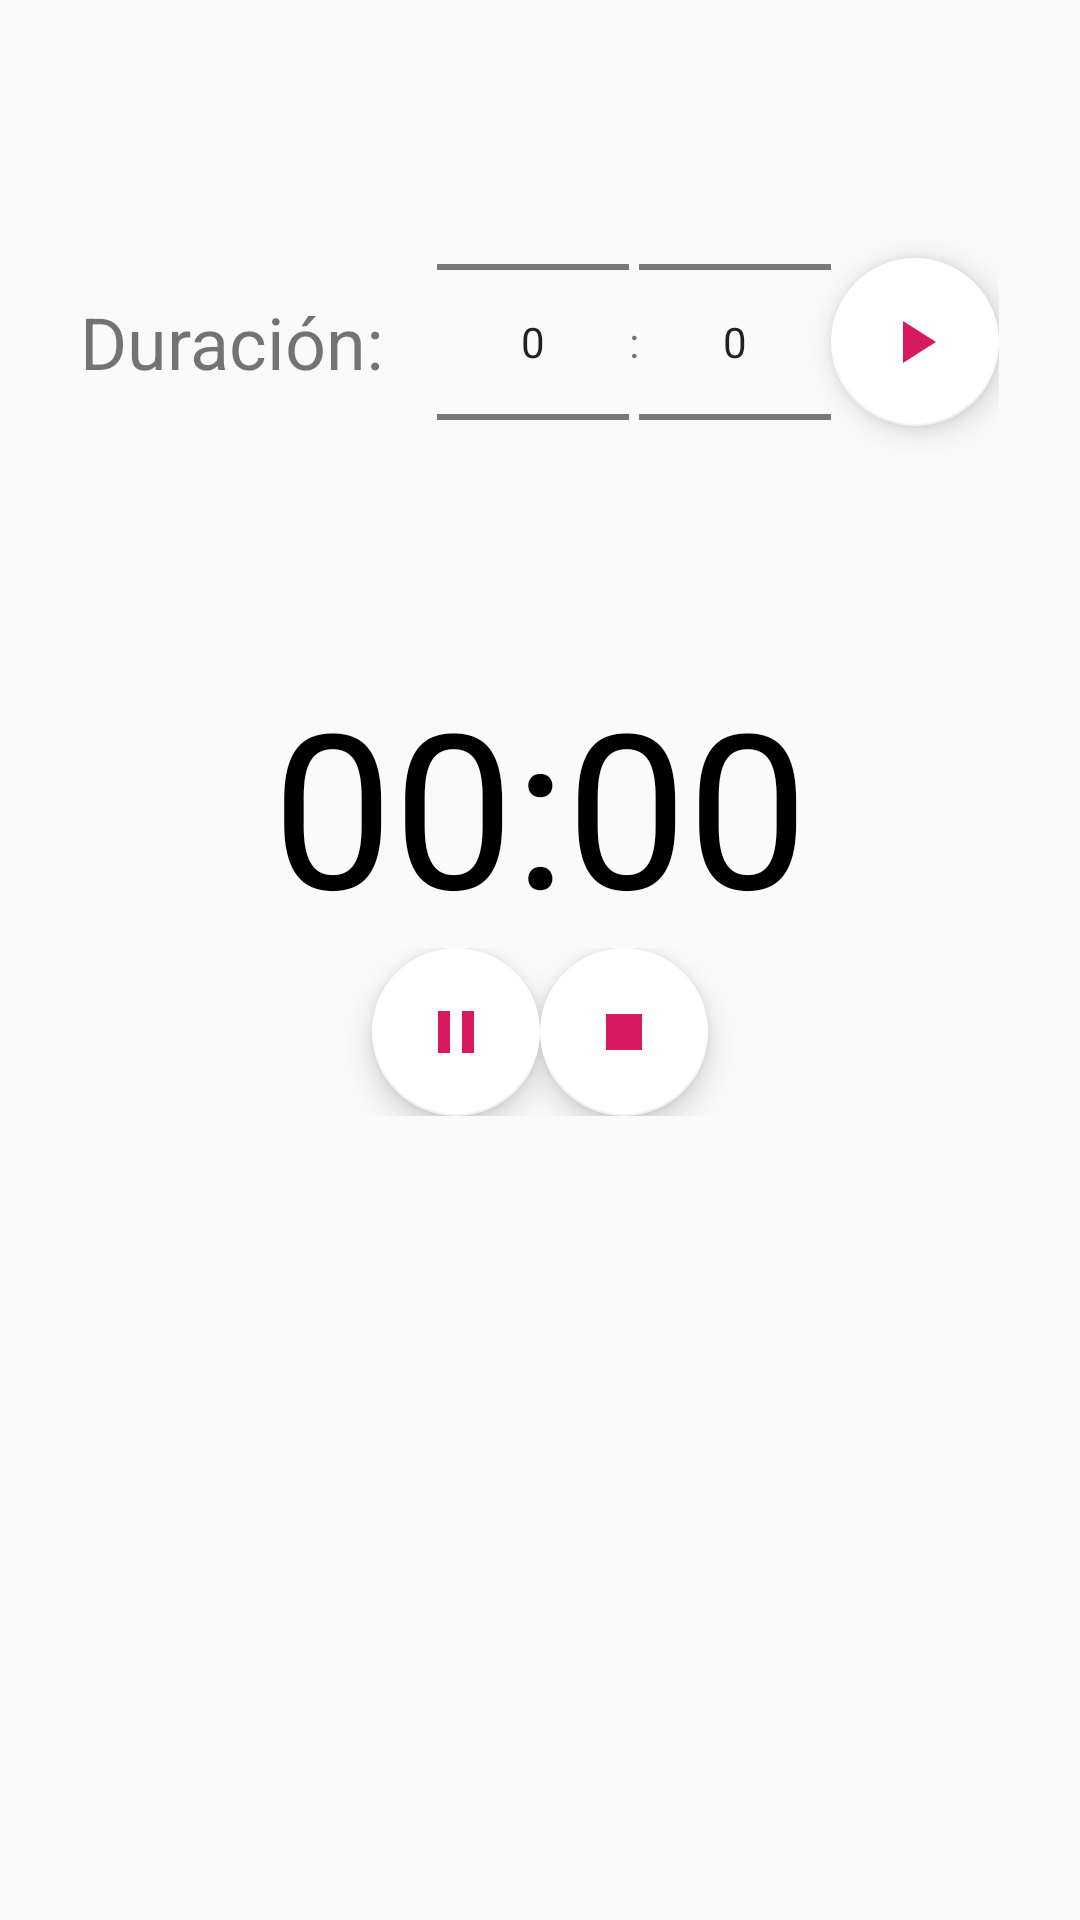

Icons on this 1080 × 1920 Android screen, each with its box as (x1,y1,x2,y2):
play: (831,258,999,426)
